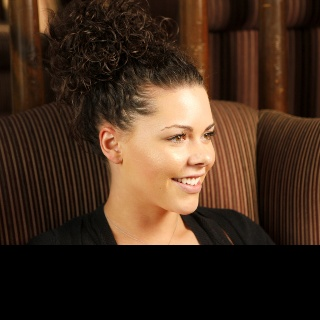without_mask: (123, 86, 216, 216)
